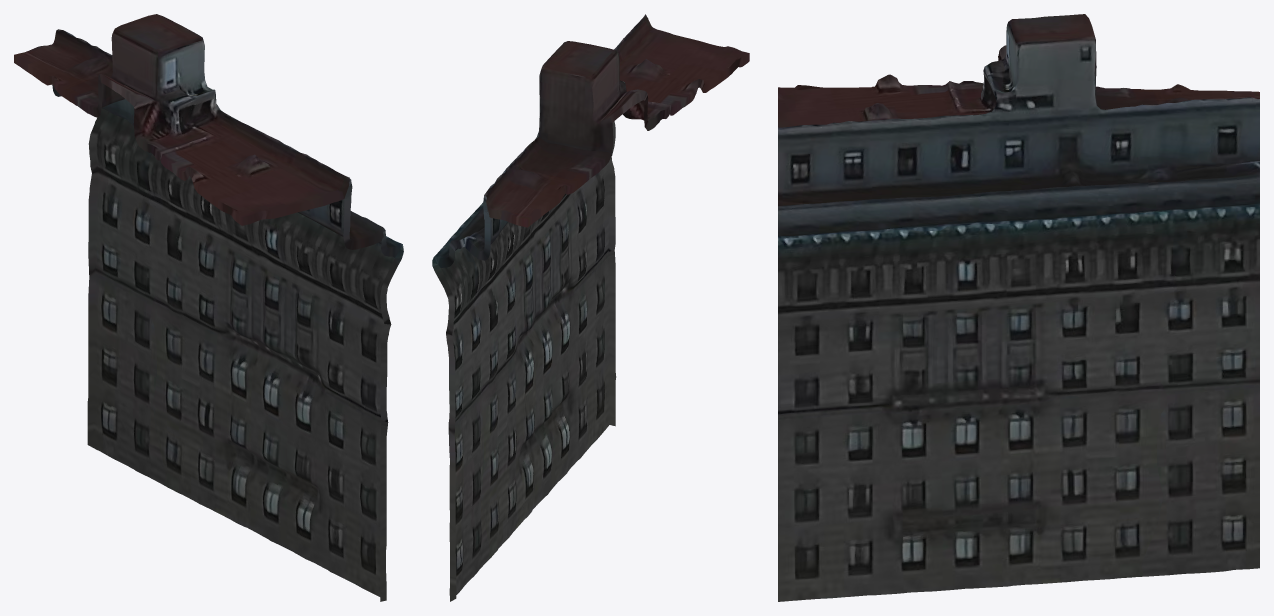
File: z20-167746-405247-h1-yup-uvflip-v3-world.glb
The picture shows the model from 3 angles, left to right: view 1: azimuth 30°, elevation 25°; view 2: azimuth 150°, elevation 25°; view 3: azimuth 270°, elevation 25°; orthographic projection. The views are drawn at different scales.
Size of the model in its own units: 12.36 by 36.4 by 30.32.
1 material, 1 textured.
